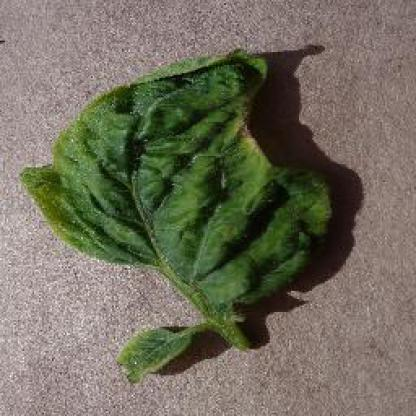bad leaf: (31, 19, 347, 387)
